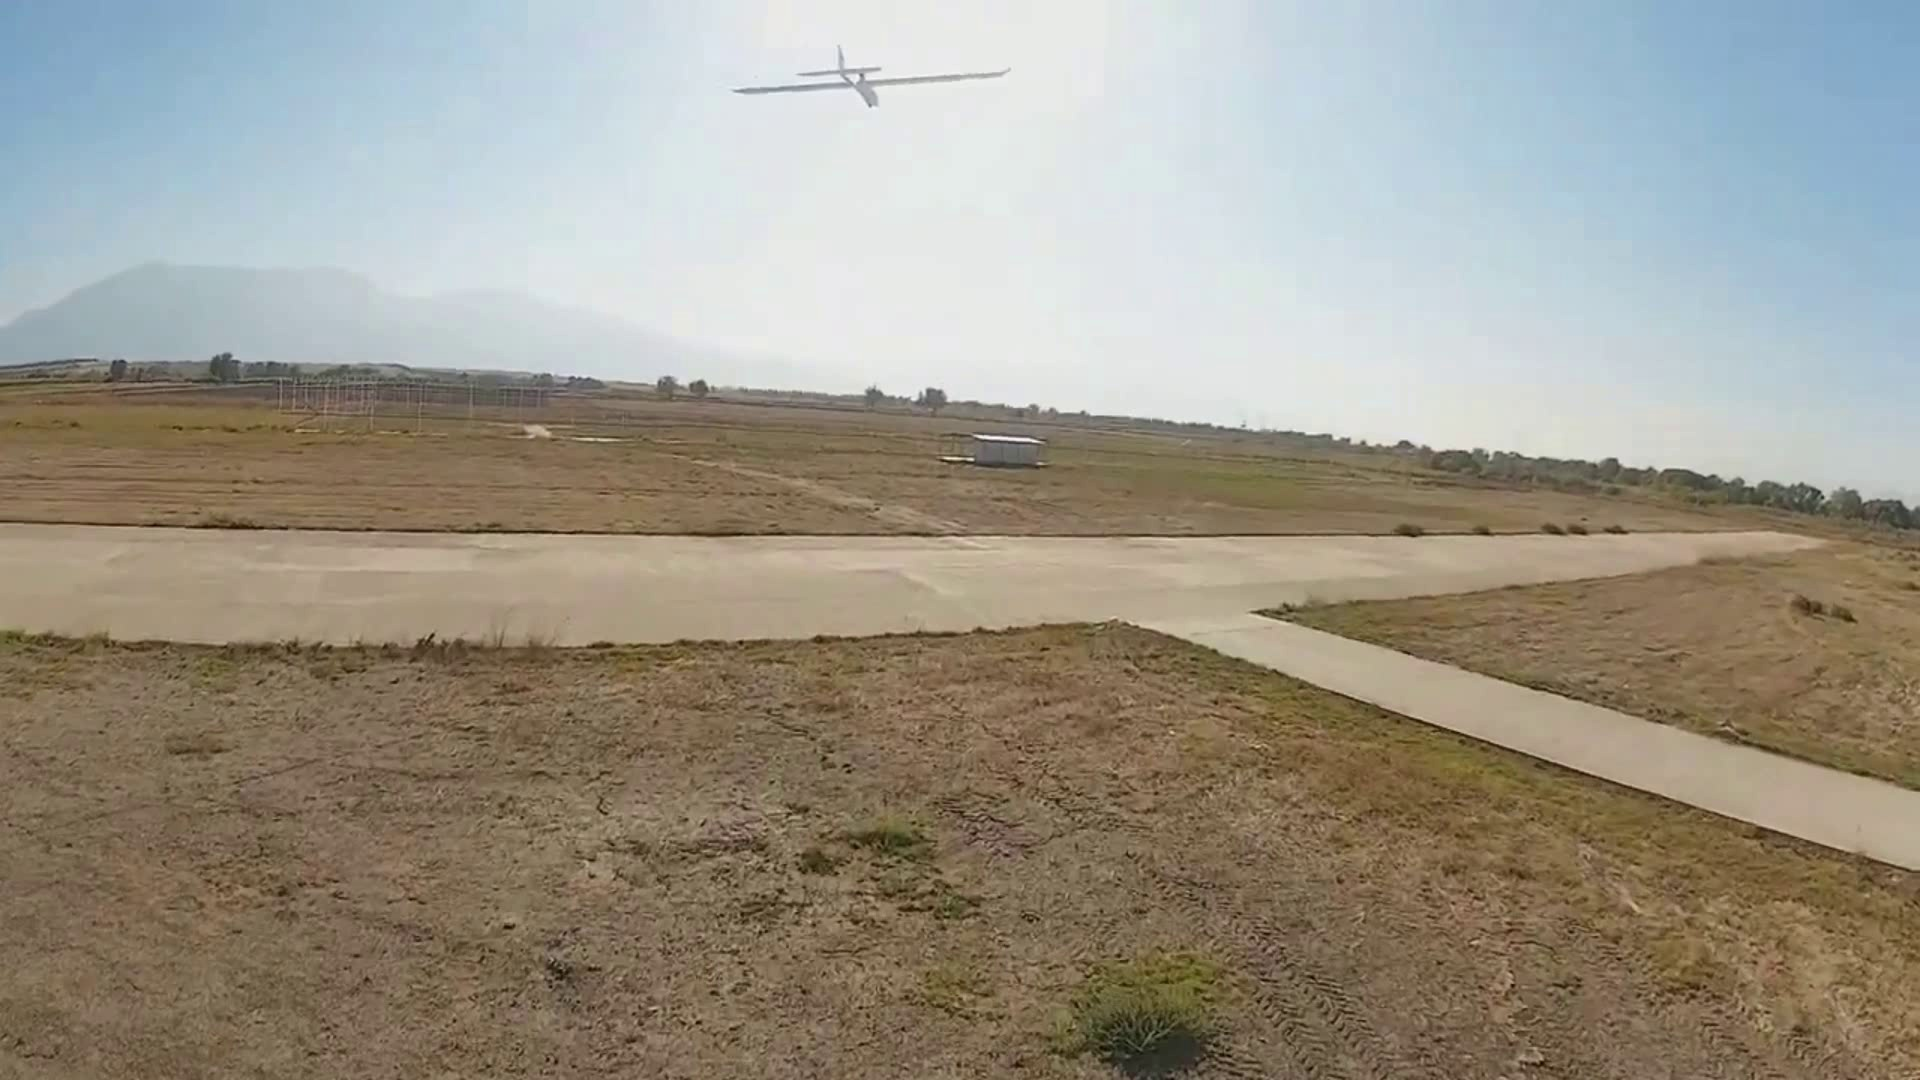airplane: (732, 38, 1011, 107)
